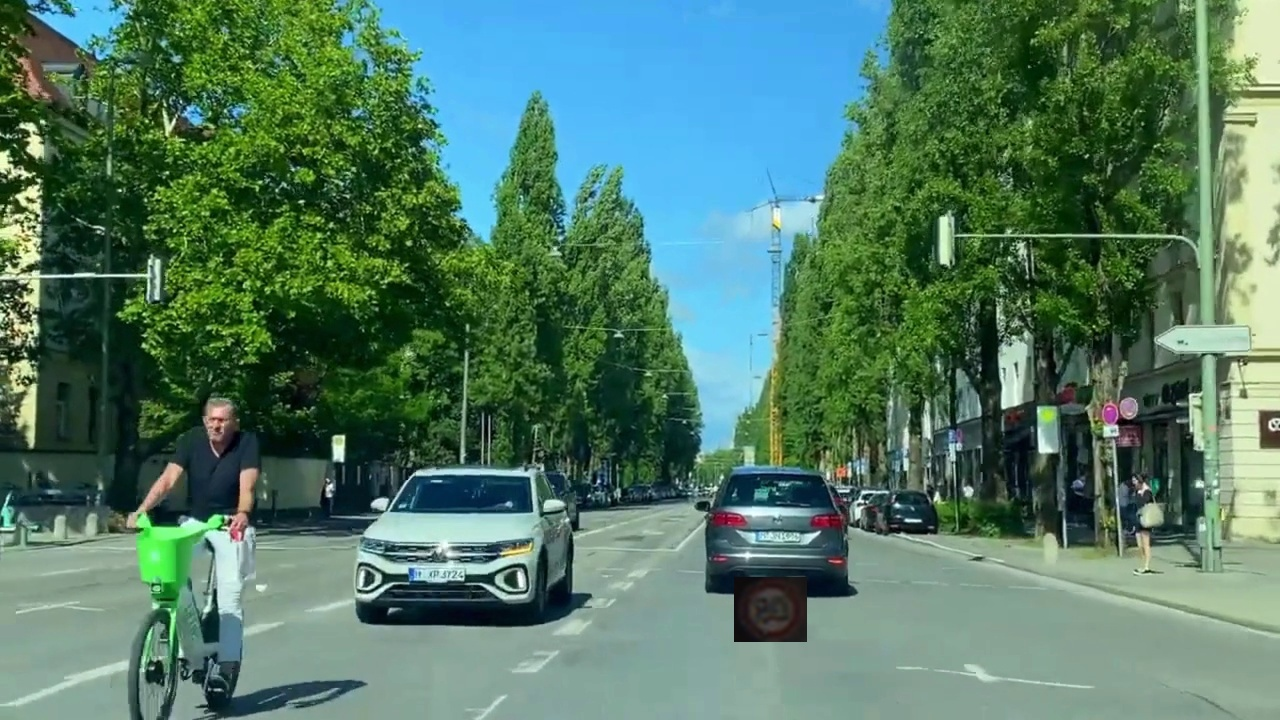Speed 80: (734, 577, 807, 642)
